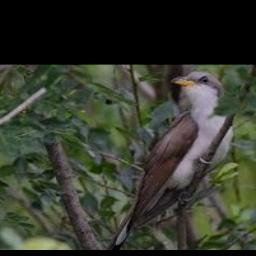Cuckoo: (111, 70, 232, 249)
